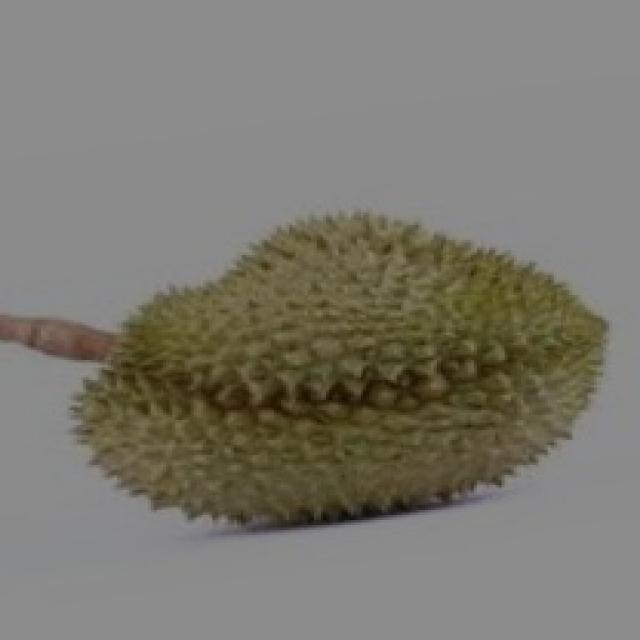fruit: (31, 187, 422, 585), (240, 175, 634, 563)
